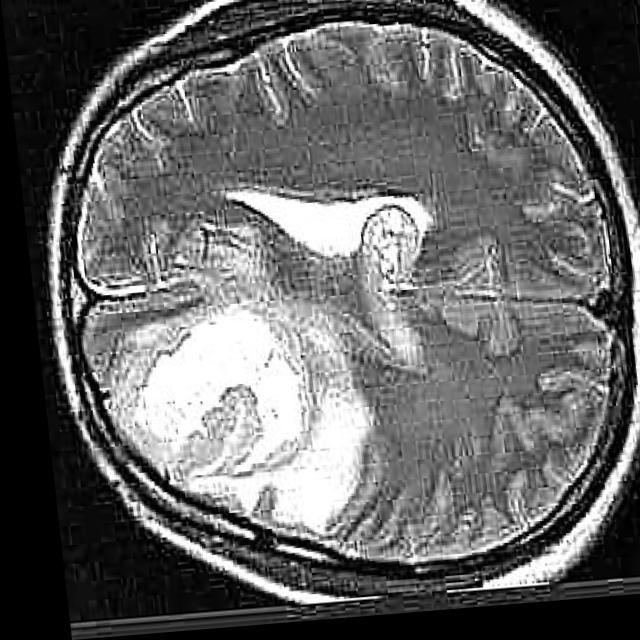Tumor: (95, 300, 358, 541)
